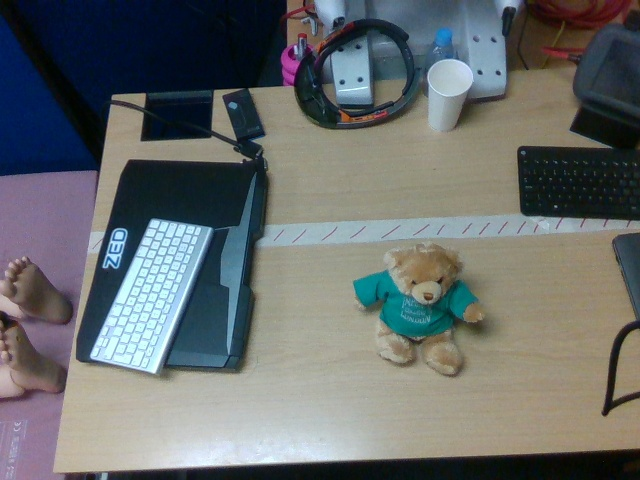teddy: (353, 242, 486, 377)
